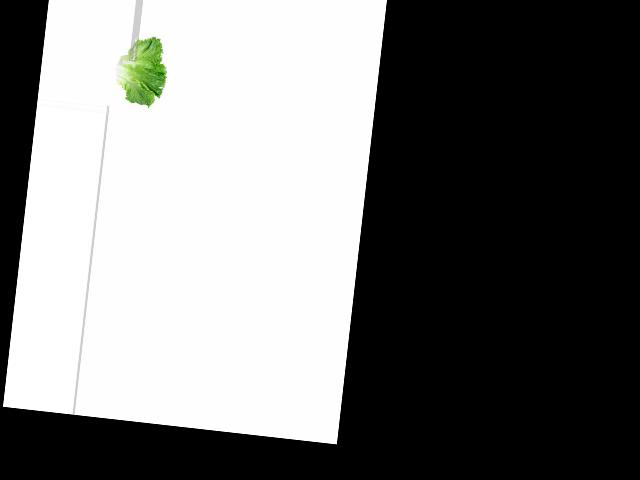lettuce: (111, 36, 169, 108)
